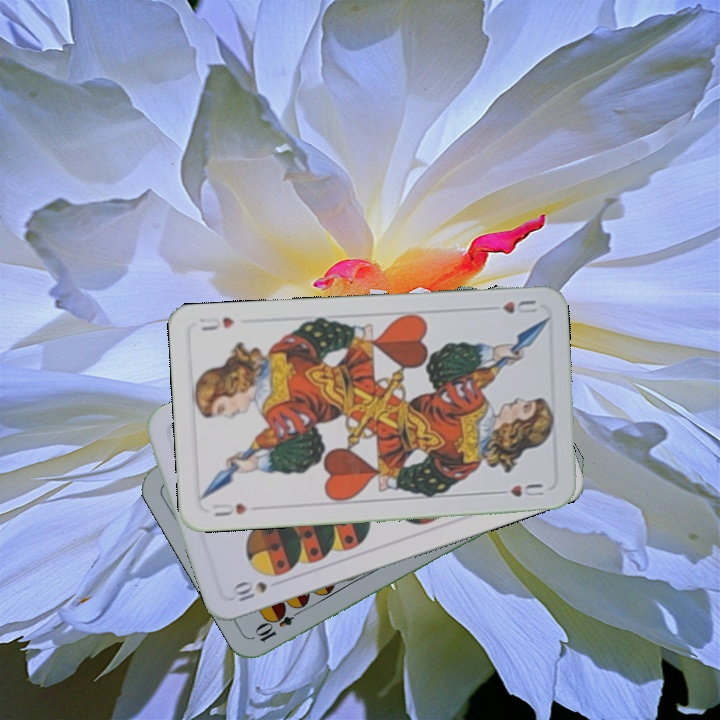E10: (251, 603, 306, 645)
HU: (209, 499, 250, 520), (498, 296, 541, 316)
S10: (231, 577, 270, 604)
